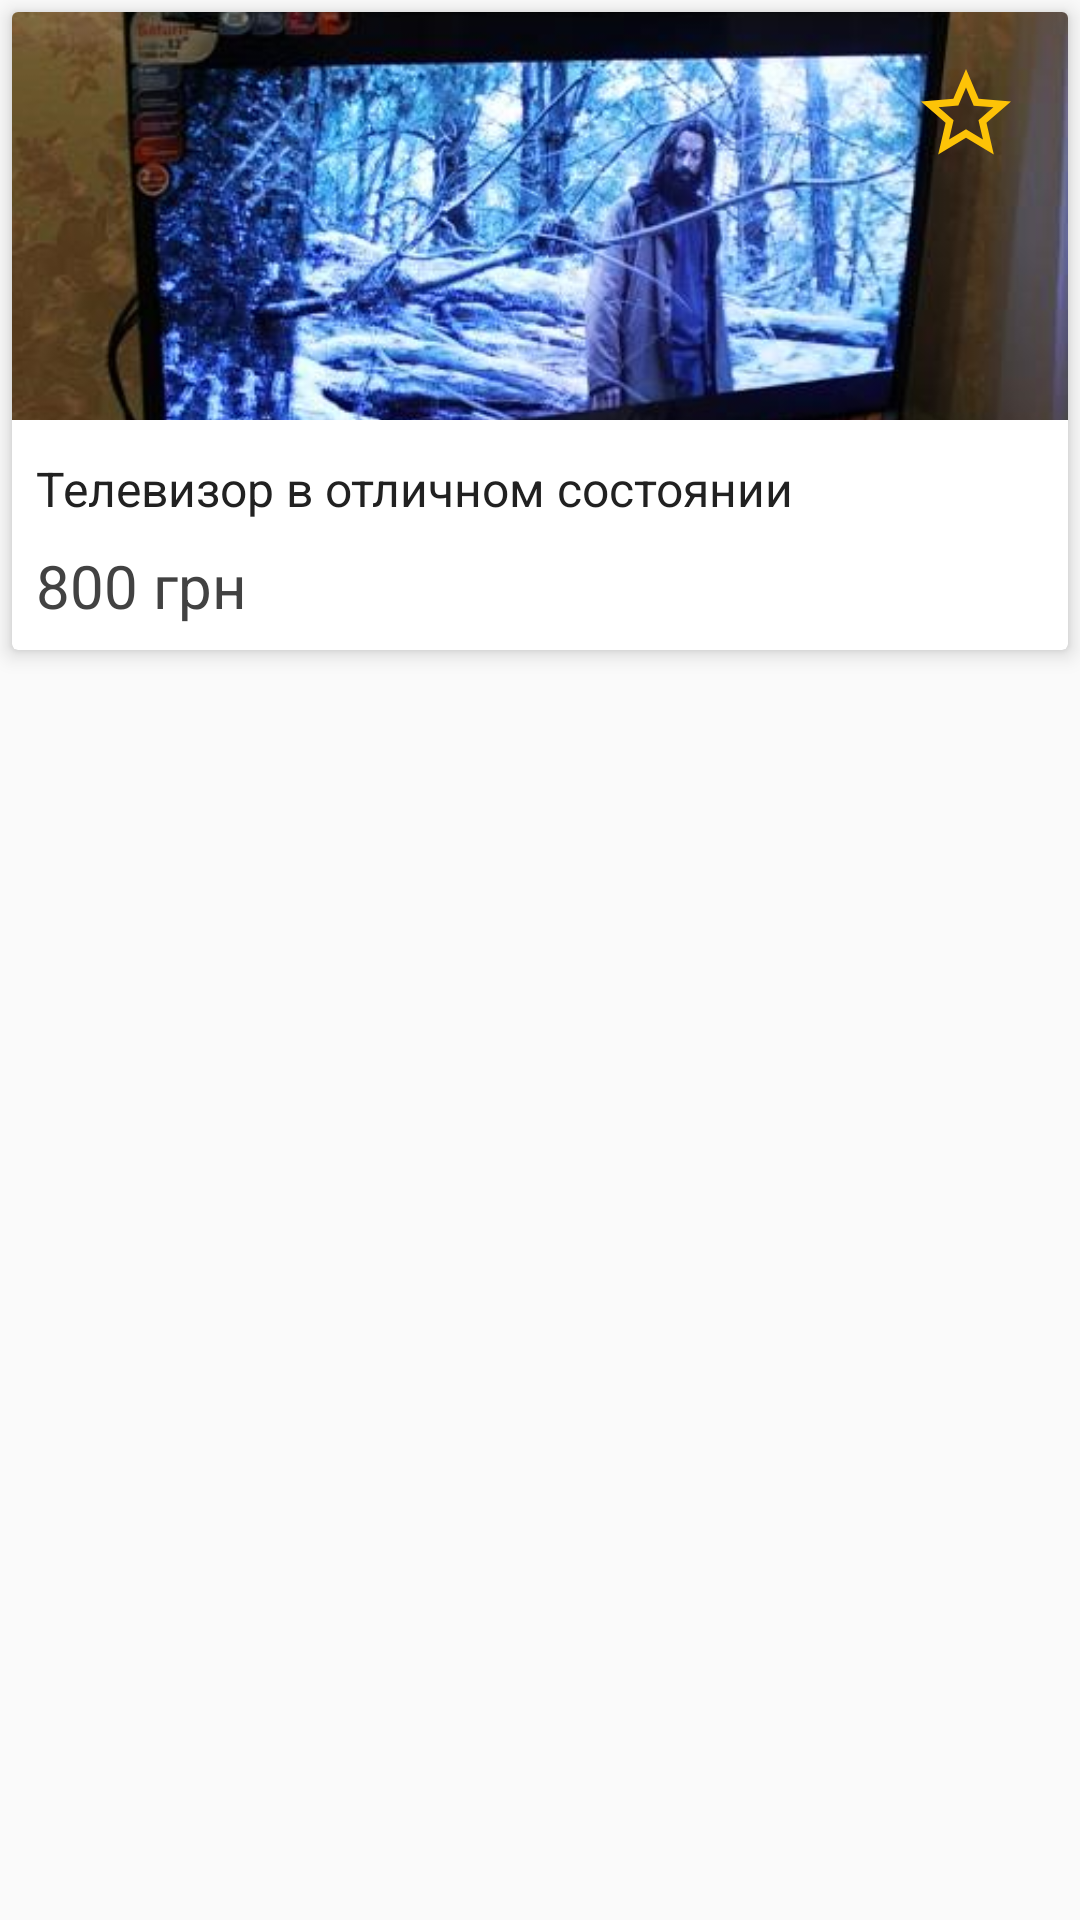

Screen size 1080 × 1920. Icon name, then its center in pixels as point (x, y):
star border: point (966, 114)
